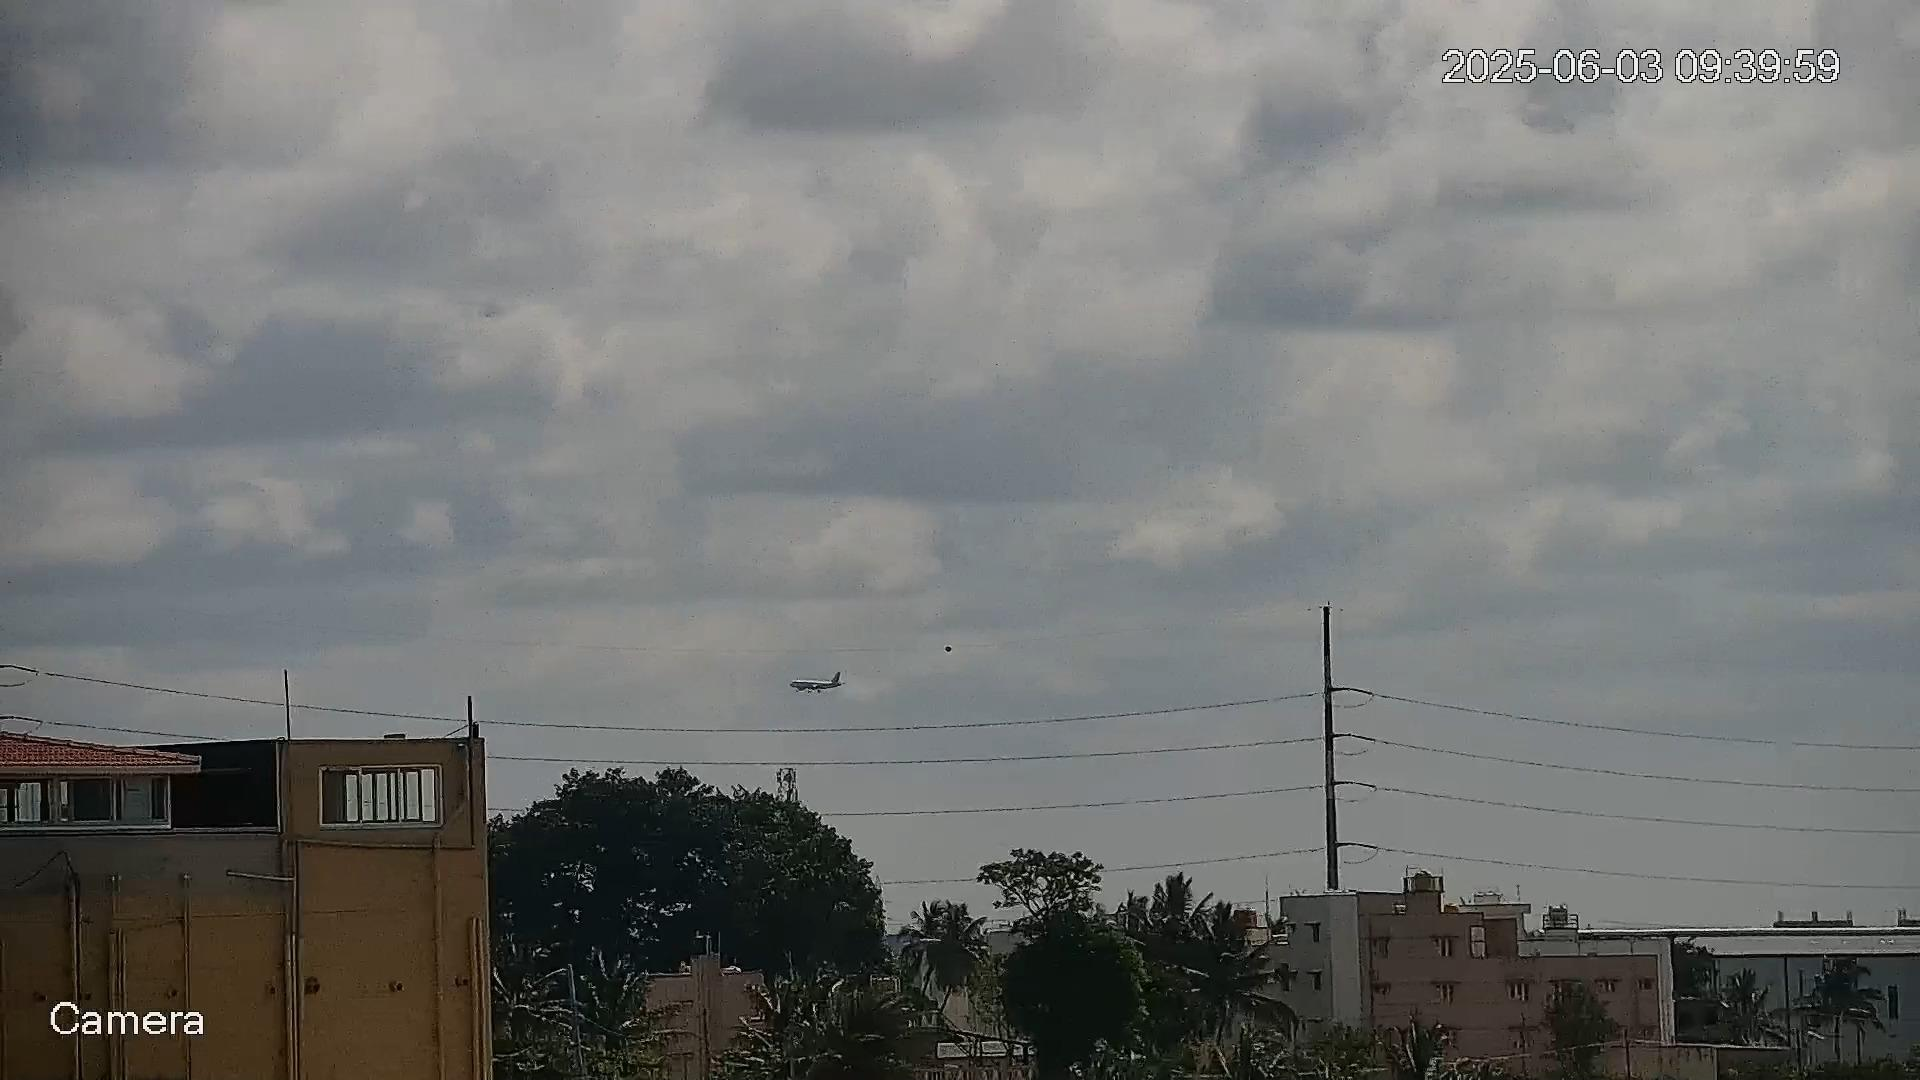Aircraft: (791, 671, 847, 695)
